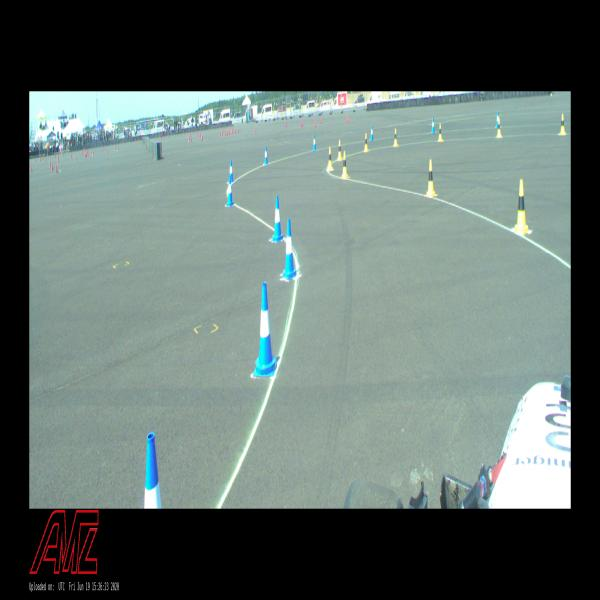blue_cone: (254, 282, 278, 375), (144, 432, 162, 509), (284, 219, 296, 279), (272, 196, 283, 241), (226, 176, 234, 206), (229, 160, 234, 182), (264, 146, 268, 164), (496, 111, 500, 128), (431, 118, 435, 133), (370, 126, 374, 140), (313, 135, 316, 151)
unknown_cone: (315, 120, 317, 128), (57, 155, 59, 163), (347, 116, 349, 124), (49, 160, 51, 167), (190, 136, 192, 142), (34, 157, 36, 162), (228, 130, 230, 135), (31, 165, 32, 173), (52, 164, 53, 171), (56, 165, 57, 172), (225, 129, 226, 136), (75, 155, 76, 161), (93, 150, 94, 156), (189, 135, 190, 141), (220, 130, 221, 136), (223, 126, 224, 132), (227, 130, 228, 136), (301, 120, 302, 126), (302, 120, 303, 126), (321, 118, 322, 124), (346, 116, 347, 122), (39, 157, 40, 162), (42, 155, 43, 160), (45, 157, 46, 162), (71, 153, 72, 158), (91, 150, 92, 155), (106, 150, 107, 155), (107, 150, 108, 155), (115, 145, 116, 150), (118, 146, 119, 151), (190, 132, 191, 137), (197, 133, 198, 138), (232, 129, 233, 134), (235, 128, 236, 133), (68, 151, 69, 155), (81, 151, 82, 155), (155, 136, 156, 140), (163, 136, 164, 140), (200, 132, 201, 136), (43, 155, 44, 159), (102, 148, 103, 152), (197, 130, 198, 134), (230, 126, 231, 130), (124, 141, 124, 145), (200, 133, 200, 138), (202, 135, 202, 141), (222, 130, 222, 136), (238, 127, 238, 134), (256, 126, 256, 132), (286, 121, 286, 127), (103, 145, 103, 148), (105, 144, 105, 148), (122, 142, 122, 145), (228, 128, 228, 132), (232, 128, 232, 131)
yellow_cone: (514, 180, 528, 233), (426, 160, 435, 196), (341, 152, 348, 178), (559, 113, 566, 135), (327, 147, 333, 170), (496, 119, 502, 137), (337, 140, 342, 160), (438, 123, 443, 142), (393, 128, 398, 146), (364, 133, 368, 152)
